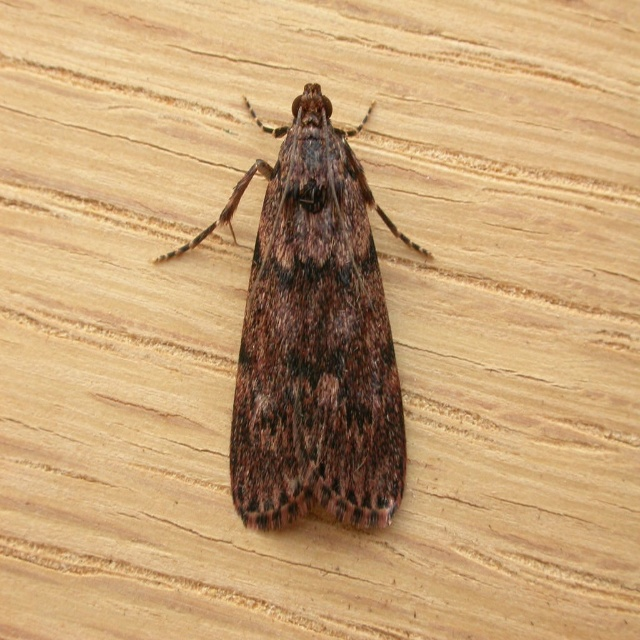Moths and butterflies: (145, 81, 435, 531)
